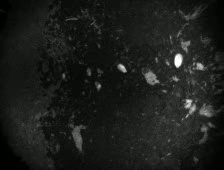corn: (173, 51, 184, 70), (115, 62, 128, 75), (92, 78, 103, 90), (84, 64, 93, 78), (60, 71, 67, 81)
